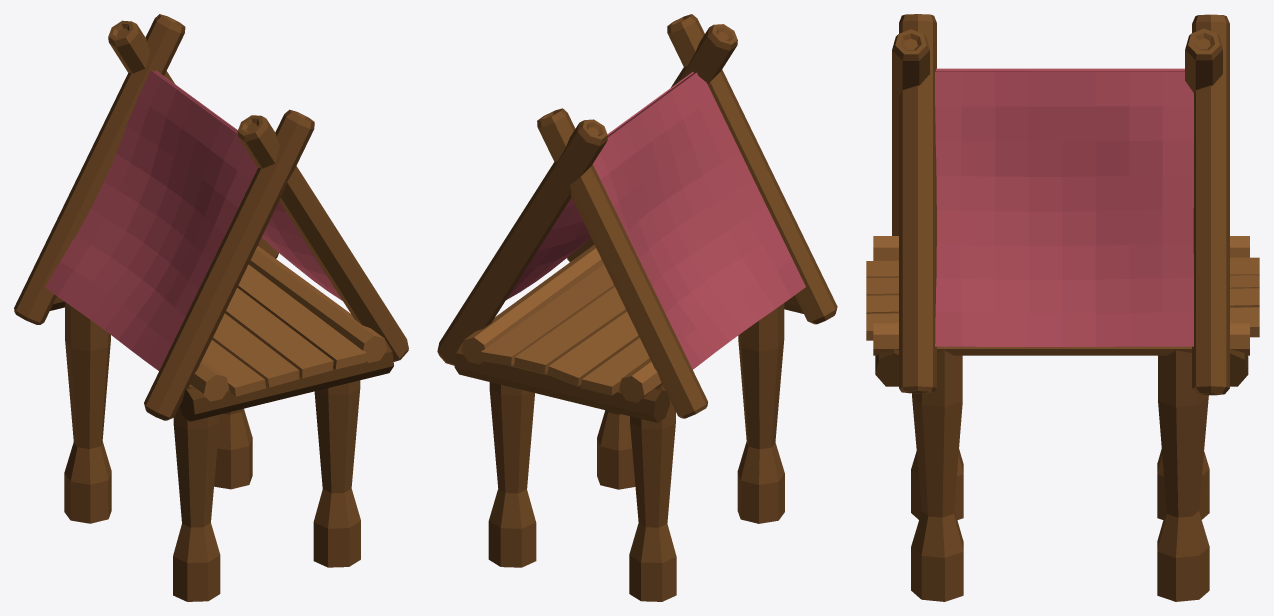
The model's file is B_A_TowerRed.fbx.
The picture shows the model from 3 angles, left to right: view 1: azimuth 30°, elevation 25°; view 2: azimuth 150°, elevation 25°; view 3: azimuth 270°, elevation 25°; orthographic projection. The views are drawn at different scales.
Visible parts, largest first — view 1: B_A_TowerRed; view 2: B_A_TowerRed; view 3: B_A_TowerRed.
Part boxes in pixels (x1,y1,x2,y2): B_A_TowerRed: (14,14,408,601); B_A_TowerRed: (437,14,837,601); B_A_TowerRed: (866,14,1259,601).
Bounding box in the file's own units: 345 × 585 × 394.
